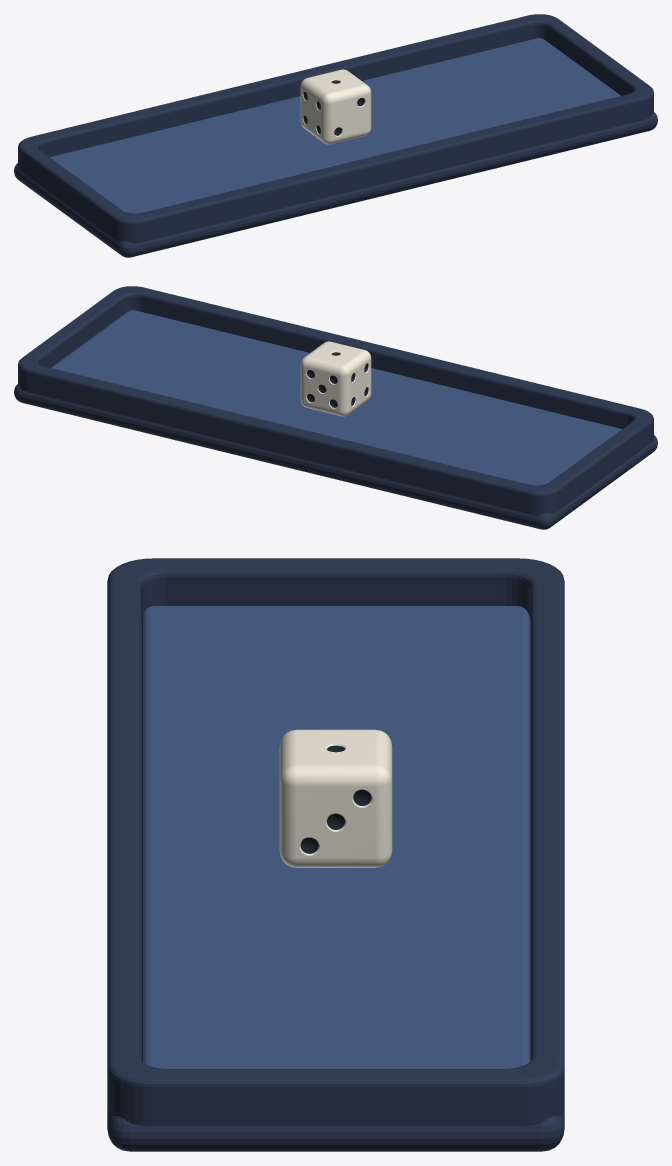
File: yacht-kit.glb
3 views of the same model, one above another, from view 1: azimuth 30°, elevation 25°; view 2: azimuth 150°, elevation 25°; view 3: azimuth 270°, elevation 25° (orthographic). The views are drawn at different scales.
Visible parts, largest first — view 1: TrayFelt, TrayRim, TrayBase, Die; view 2: TrayFelt, TrayRim, TrayBase, Die; view 3: TrayFelt, TrayRim, Die, TrayBase.
Part boxes in pixels (x1=…): TrayFelt: x1=50, y1=38, x2=620, y2=213; TrayRim: x1=18, y1=14, x2=653, y2=243; TrayBase: x1=14, y1=42, x2=657, y2=257; Die: x1=300, y1=69, x2=371, y2=144; TrayFelt: x1=51, y1=310, x2=621, y2=485; TrayRim: x1=18, y1=286, x2=653, y2=515; TrayBase: x1=14, y1=314, x2=657, y2=529; Die: x1=300, y1=341, x2=371, y2=416; TrayFelt: x1=142, y1=606, x2=529, y2=1068; TrayRim: x1=107, y1=558, x2=564, y2=1125; Die: x1=279, y1=729, x2=392, y2=867; TrayBase: x1=107, y1=618, x2=564, y2=1151.
Bounding box in the file's own units: 10.6 × 1.4 × 3.9.
